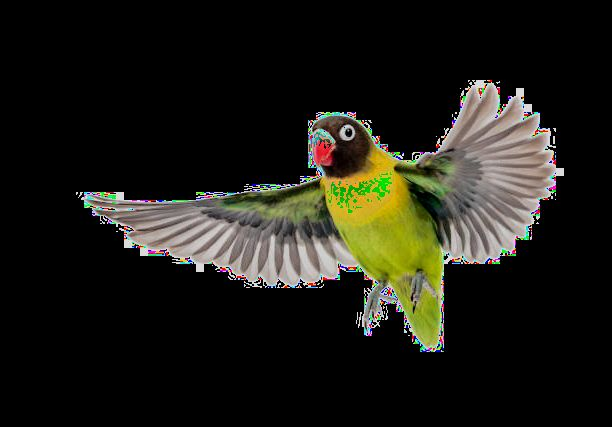Bird: (69, 75, 567, 359)
